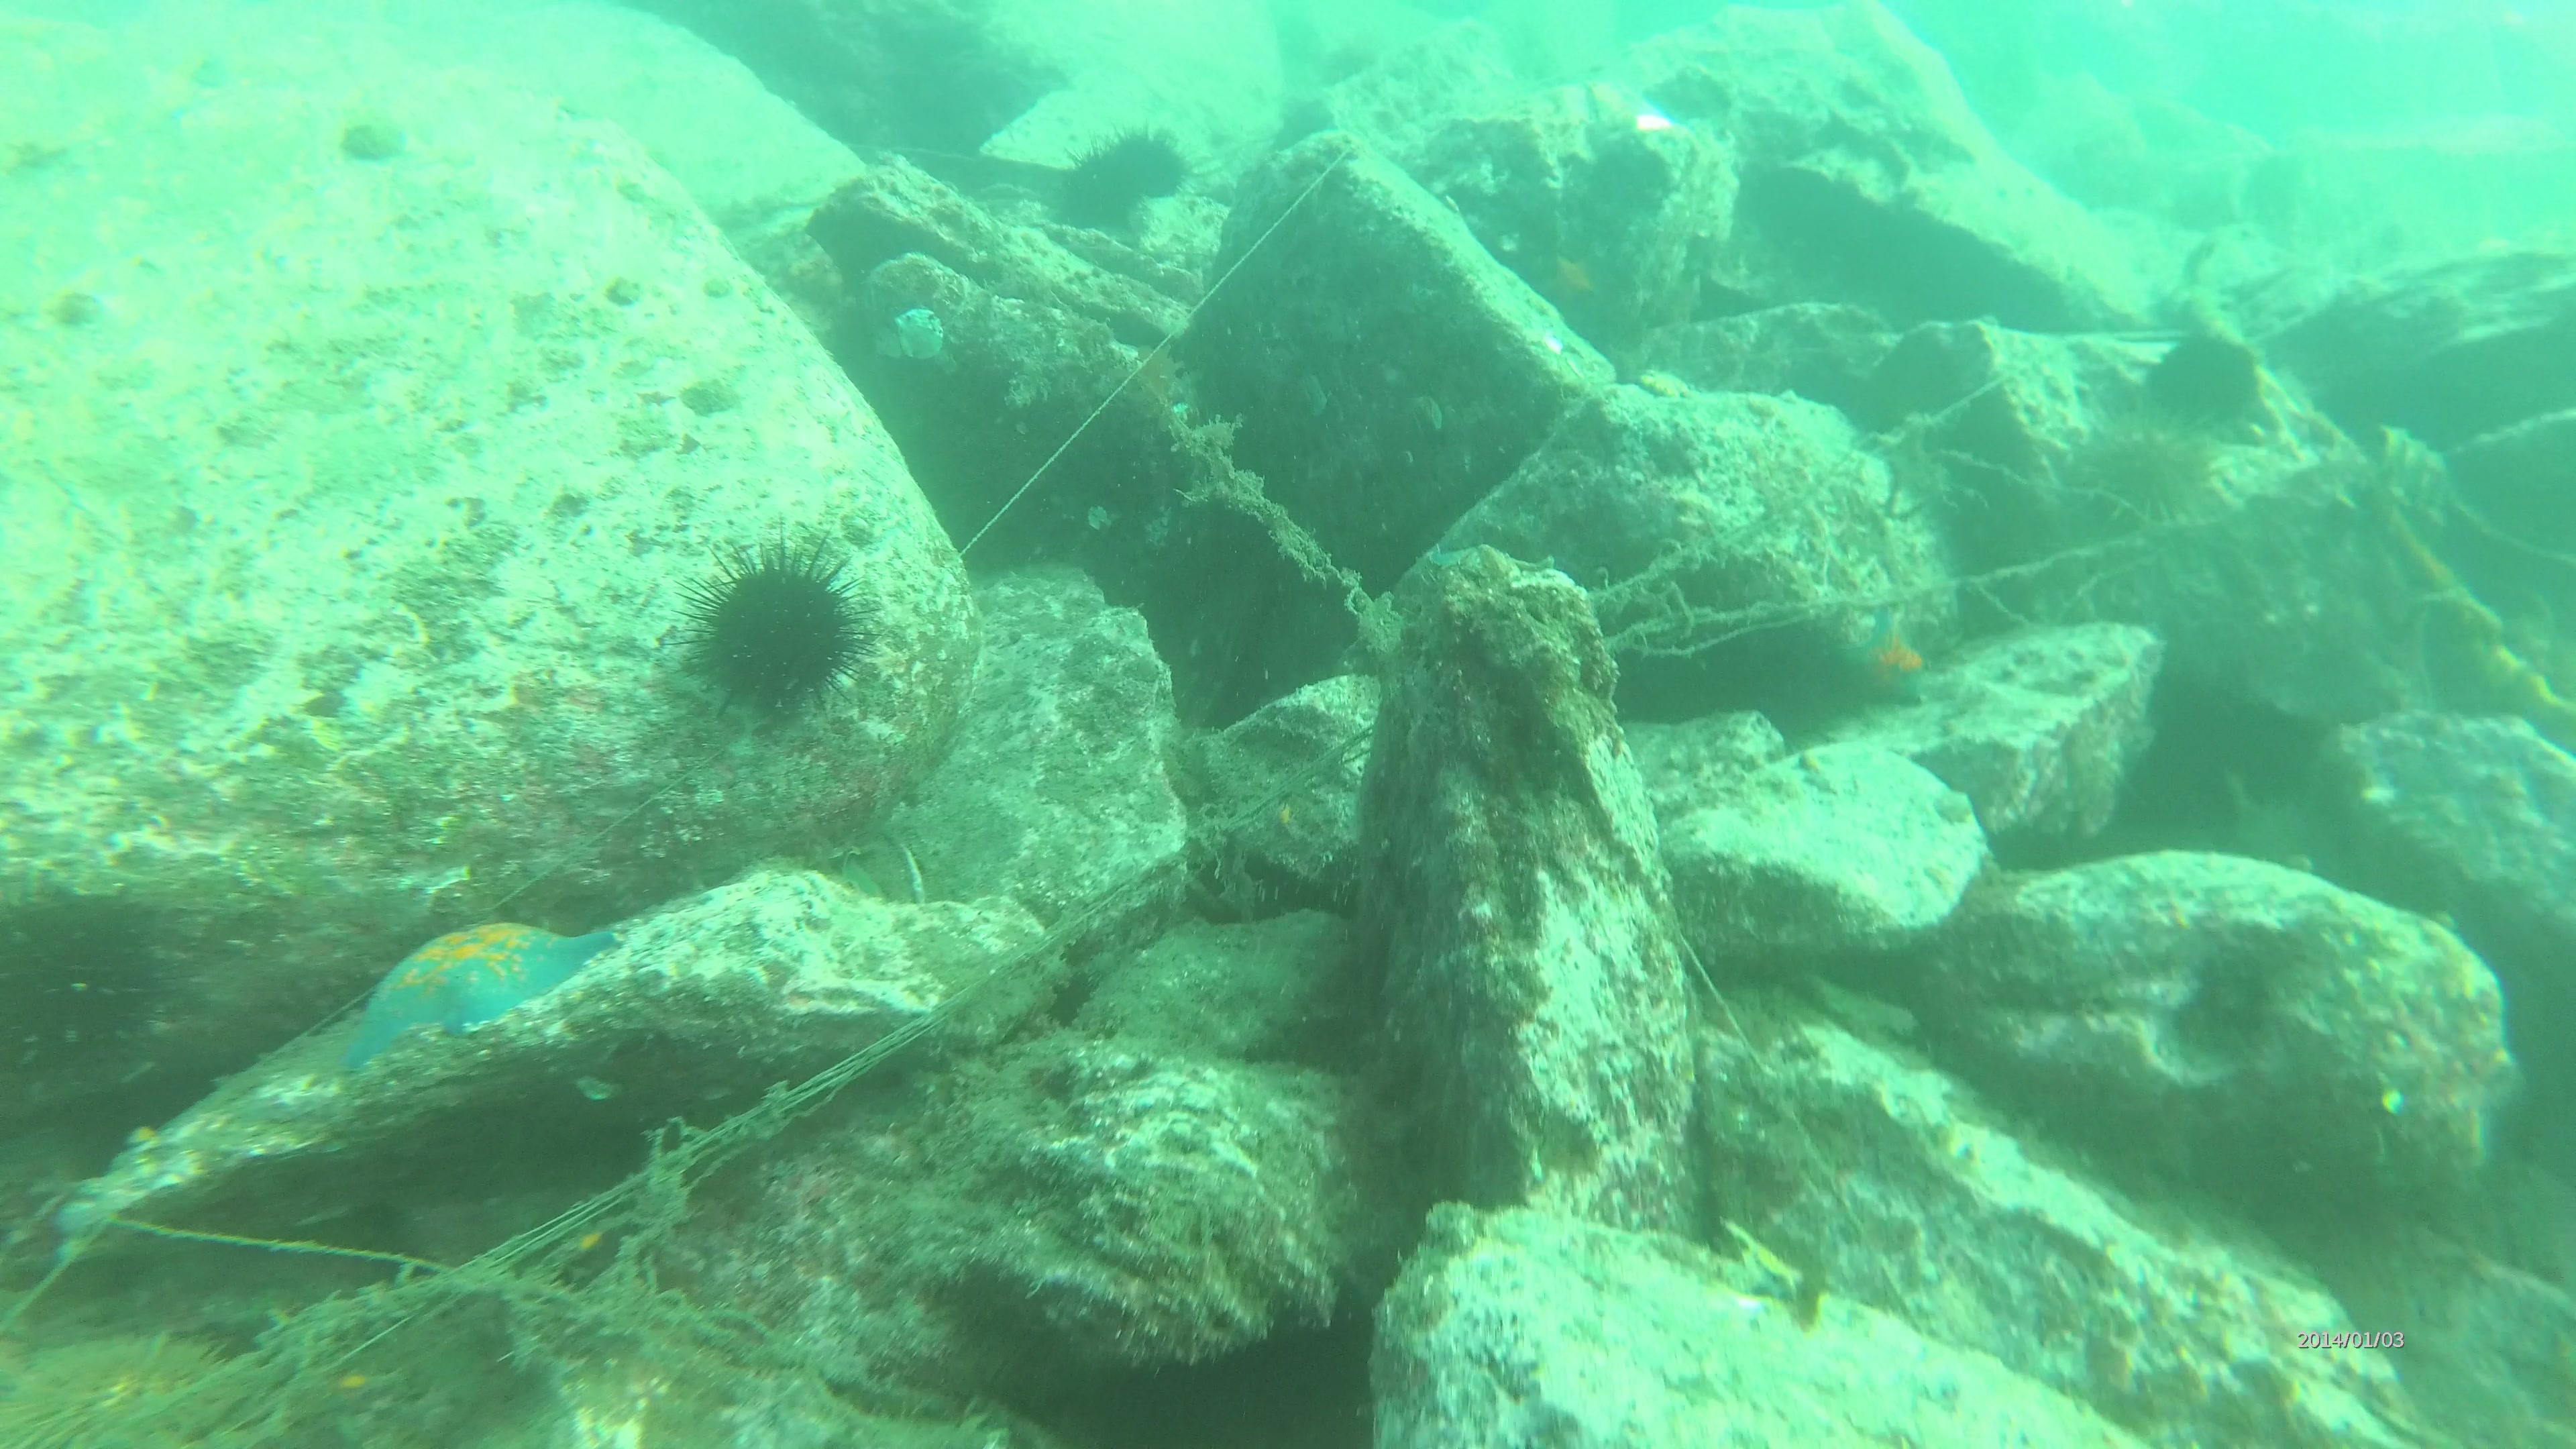echinus: (685, 552, 867, 725), (2079, 405, 2227, 529), (1058, 131, 1187, 237)
starfish: (333, 918, 619, 1085), (1844, 612, 1950, 720), (1534, 248, 1610, 326)
